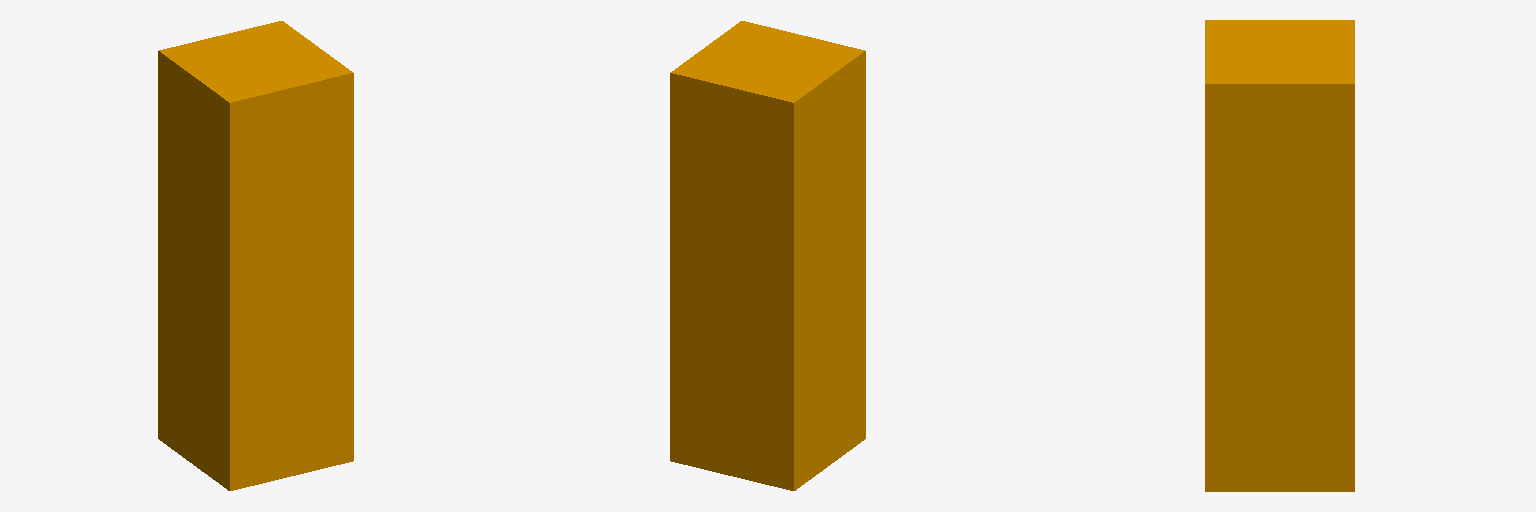
The robot description file, URDF, robot "box":
<?xml version='1.0' encoding='UTF-8'?>
<robot name="box">
  <link name="base_link">
    <inertial>
      <origin xyz="0.0 0.0 0.0" rpy="0.0 -0.0 0.0"/>
      <mass value="1.0"/>
      <inertia ixx="1.0" ixy="0.0" ixz="0.0" iyy="1.0" iyz="0.0" izz="1.0"/>
    </inertial>
    <visual name="base_link_visual">
      <geometry>
        <box size="1 1 3.0"/>
      </geometry>
      <origin xyz="0 0 0" rpy="0 0 0"/>
    </visual>
    <collision name="base_link_collision">
      <geometry>
        <box size="1 1 3.0"/>
      </geometry>
      <origin xyz="0 0 0" rpy="0 0 0"/>
    </collision>
  </link>
</robot>

--- Facts derived from the render (not from the file) ---
Views: 3 orthographic renders of the robot side by side, from view 1: azimuth 30°, elevation 25°; view 2: azimuth 150°, elevation 25°; view 3: azimuth 270°, elevation 25°.
Robot: box — 1 links, 0 joints (none); root link base_link; default pose: all joints at 0.
Visible links, largest first — view 1: base_link; view 2: base_link; view 3: base_link.
Boxes of the visible links, x1,y1,x2,y2 form: base_link: (158, 21, 353, 490); base_link: (670, 21, 865, 490); base_link: (1205, 20, 1354, 491).
Size in the robot's own frame: 1 by 1 by 3 metres.
Geometry: primitives only (box / cylinder / sphere), no mesh files.